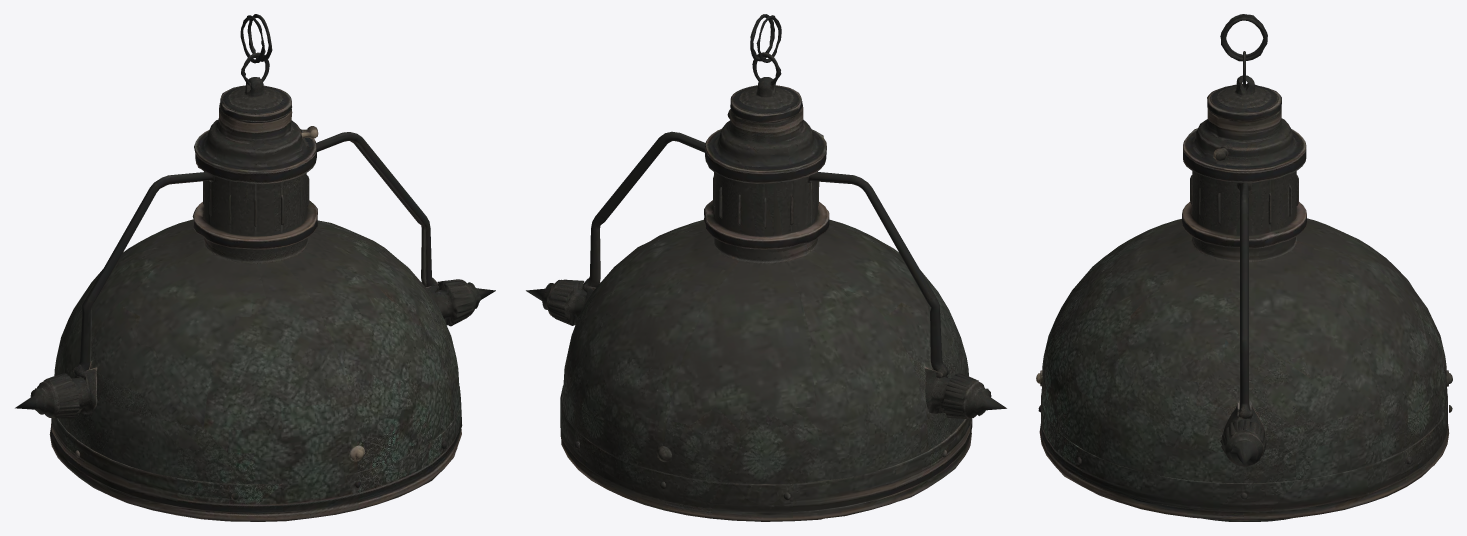
File: brass-lamp.glb
3 renders of one model, left to right at view 1: azimuth 30°, elevation 25°; view 2: azimuth 150°, elevation 25°; view 3: azimuth 270°, elevation 25°, orthographic.
Visible parts, largest first — view 1: midway-fit; view 2: midway-fit; view 3: midway-fit.
Part boxes in pixels (box(x1,y1,x2,y2)): midway-fit: box(15, 14, 495, 521); midway-fit: box(526, 14, 1006, 521); midway-fit: box(1036, 14, 1452, 521).
Size of the model in its own units: 1 by 0.894 by 0.7494.
Materials: 1 (1 with a texture image).
